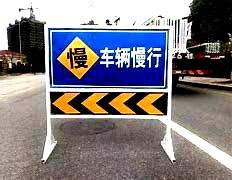sign: (47, 26, 170, 119)
